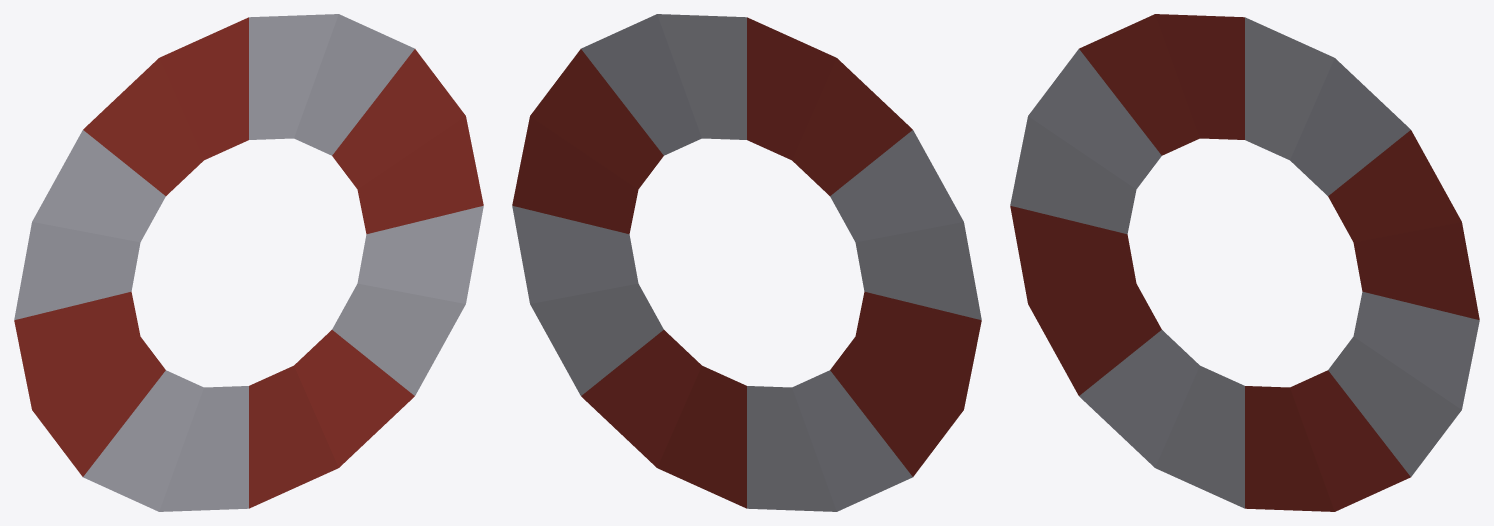
Rendered from life_ring.glb.
The picture shows the model from 3 angles, left to right: view 1: azimuth 30°, elevation 25°; view 2: azimuth 150°, elevation 25°; view 3: azimuth 330°, elevation 25°; orthographic projection.
Parts seen in each view (by area): view 1: life_ring; view 2: life_ring; view 3: life_ring.
Part boxes in pixels (<box>): life_ring: <box>14,14,483,511</box>; life_ring: <box>512,14,981,511</box>; life_ring: <box>1010,14,1479,511</box>.
Bounding box in the file's own units: 0.4 × 0.4 × 0.
